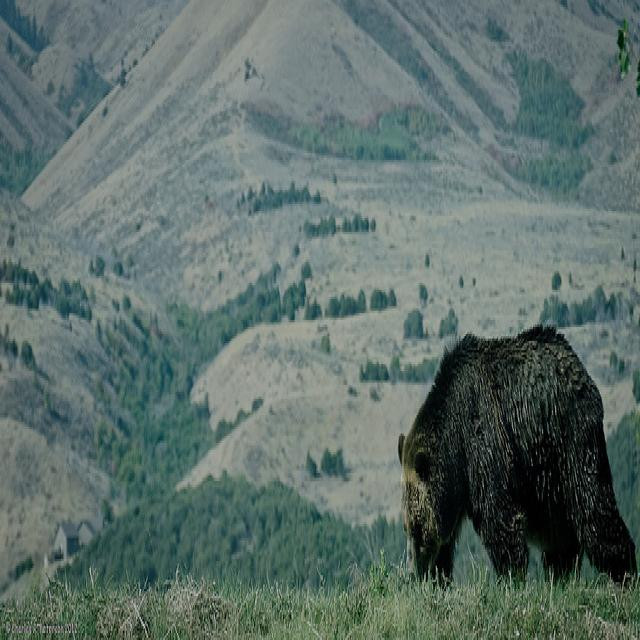Bear: (394, 330, 640, 578)
